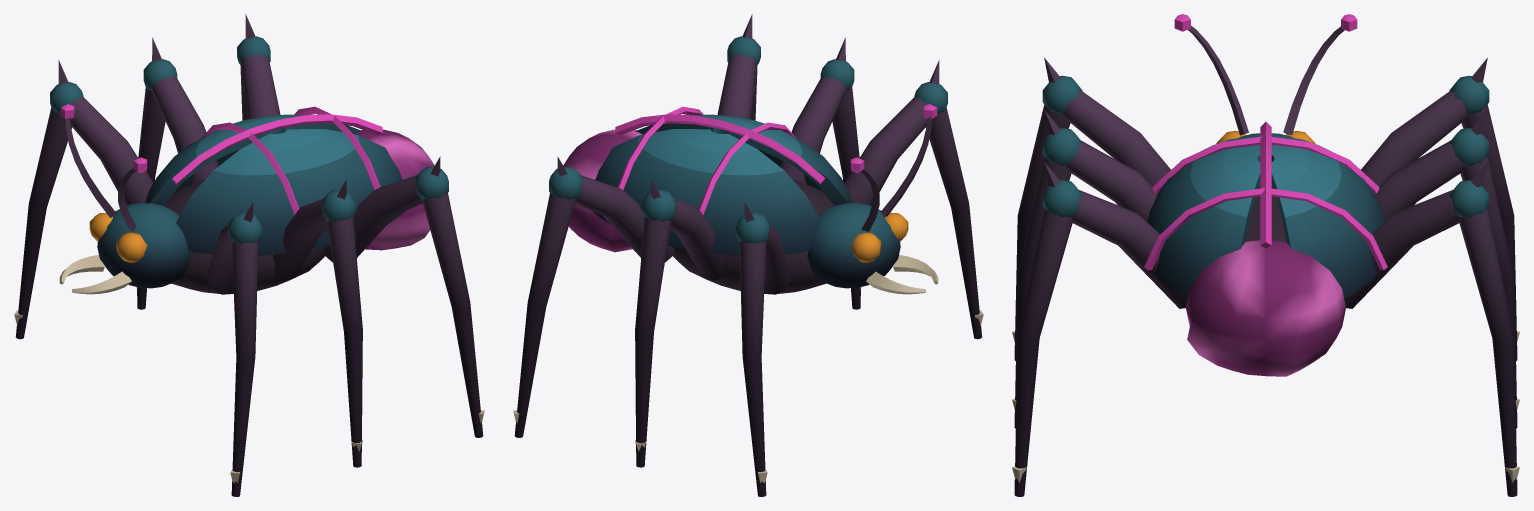
The model's file is Skitter.fbx.
3 views of the same model, side by side, from view 1: azimuth 30°, elevation 25°; view 2: azimuth 150°, elevation 25°; view 3: azimuth 270°, elevation 25° (orthographic). The views are drawn at different scales.
Parts seen in each view (by area): view 1: Body, Leg2, Leg3, Leg1, Leg0, Leg4, Leg5; view 2: Body, Leg5, Leg0, Leg4, Leg3, Leg1, Leg2; view 3: Body, Leg2, Leg5, Leg0, Leg3, Leg1, Leg4.
Boxes of the visible parts, x1,y1,x2,y2 form: Body: [59, 104, 434, 294]; Leg2: [323, 156, 484, 437]; Leg3: [14, 60, 153, 339]; Leg1: [273, 179, 362, 467]; Leg0: [206, 202, 261, 496]; Leg4: [136, 37, 218, 309]; Leg5: [237, 14, 280, 120]; Body: [563, 104, 938, 294]; Leg5: [513, 156, 674, 437]; Leg0: [844, 60, 983, 339]; Leg4: [635, 179, 724, 467]; Leg3: [736, 202, 791, 496]; Leg1: [779, 37, 861, 309]; Leg2: [717, 14, 760, 120]; Body: [1144, 14, 1387, 376]; Leg2: [1012, 162, 1187, 496]; Leg5: [1344, 162, 1519, 496]; Leg0: [1012, 57, 1170, 361]; Leg3: [1361, 57, 1519, 361]; Leg1: [1012, 109, 1157, 428]; Leg4: [1374, 109, 1519, 428].
Bounding box in the file's own units: 0.7831 × 0.596 × 0.824.
